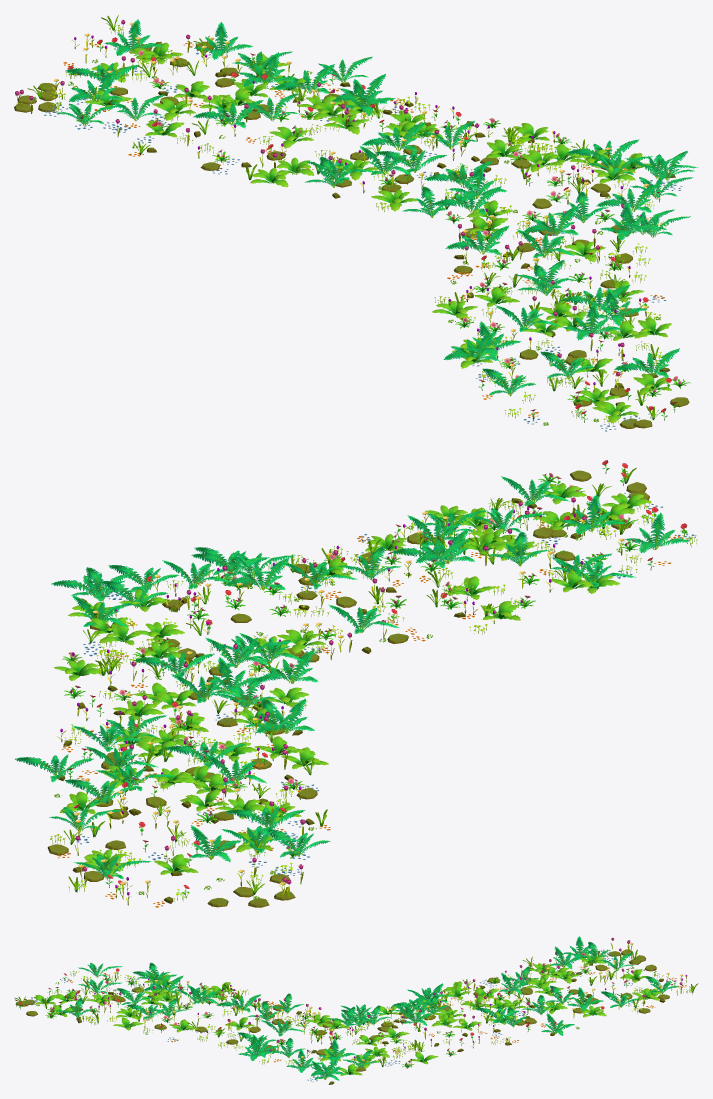
File: Flores8.fbx
The picture shows the model from 3 angles, top to bottom: view 1: azimuth 30°, elevation 25°; view 2: azimuth 150°, elevation 25°; view 3: azimuth 270°, elevation 25°; orthographic projection. The views are drawn at different scales.
Parts seen in each view (by area): view 1: Plane.004; view 2: Plane.004; view 3: Plane.004.
Boxes of the visible parts, x1=… form: Plane.004: x1=14, y1=15, x2=697, y2=431; Plane.004: x1=15, y1=460, x2=697, y2=907; Plane.004: x1=14, y1=936, x2=698, y2=1084.
Size of the model in its own units: 7.2 by 0.7561 by 14.84.
Materials: 2 (1 with a texture image).
